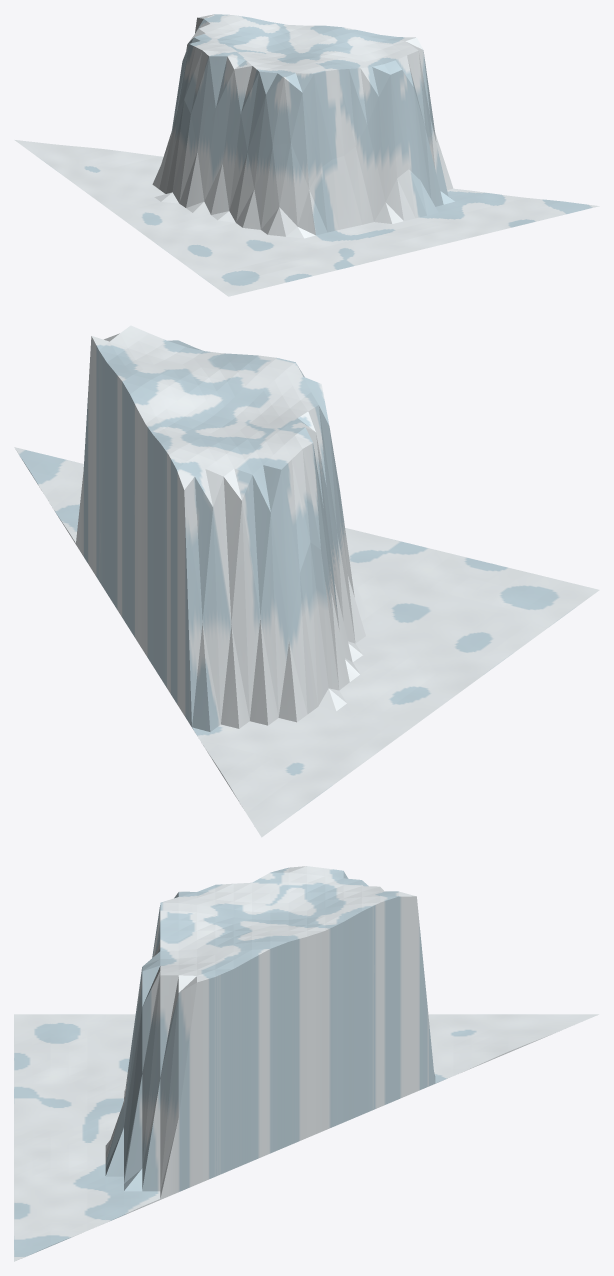
Rendered from Snow_Mountains_06_NW.obj.
3 views of the same model, one above another, from view 1: azimuth 30°, elevation 25°; view 2: azimuth 150°, elevation 25°; view 3: azimuth 270°, elevation 25° (orthographic). The views are drawn at different scales.
Size of the model in its own units: 10 by 3.85 by 10.
1 material, 1 textured.
